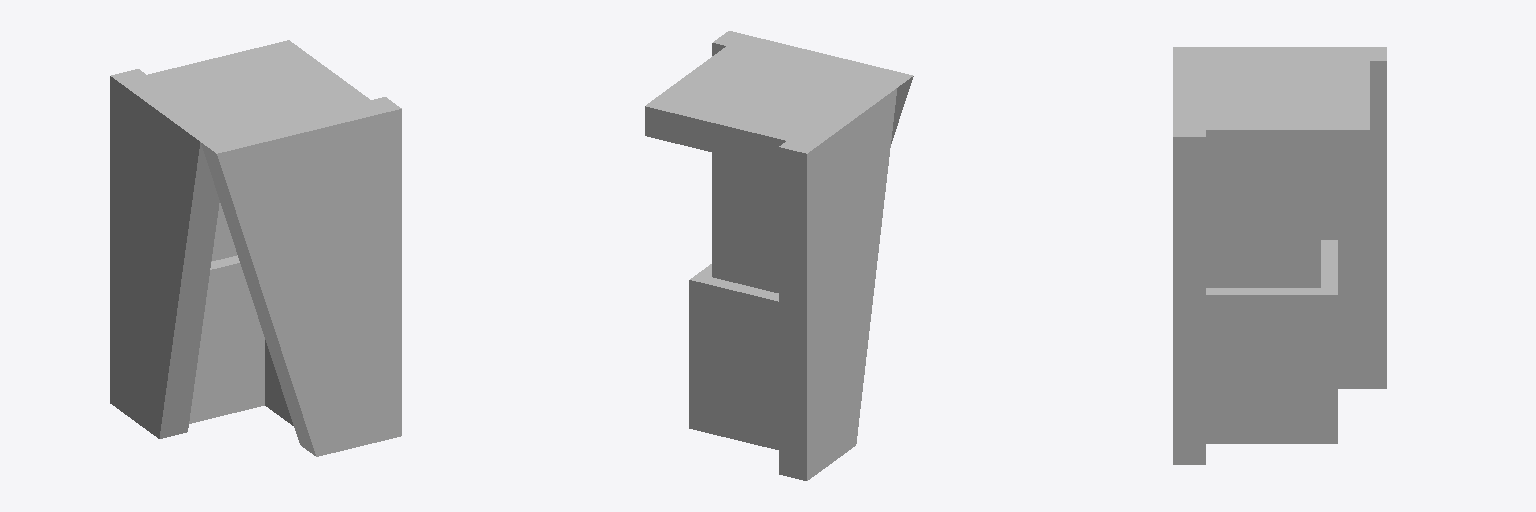
File: mylandscaping_blockm_oc_t.obj
The picture shows the model from 3 angles: view 1: azimuth 30°, elevation 25°; view 2: azimuth 150°, elevation 25°; view 3: azimuth 270°, elevation 25°; orthographic projection.
Parts seen in each view (by area): view 1: Madison_OC_T_Cube.031; view 2: Madison_OC_T_Cube.031; view 3: Madison_OC_T_Cube.031.
Boxes of the visible parts, <box> form: Madison_OC_T_Cube.031: <box>110,40,401,456</box>; Madison_OC_T_Cube.031: <box>645,31,913,480</box>; Madison_OC_T_Cube.031: <box>1173,47,1386,464</box>.
Size of the model in its own units: 0.65 by 1.1 by 0.65.